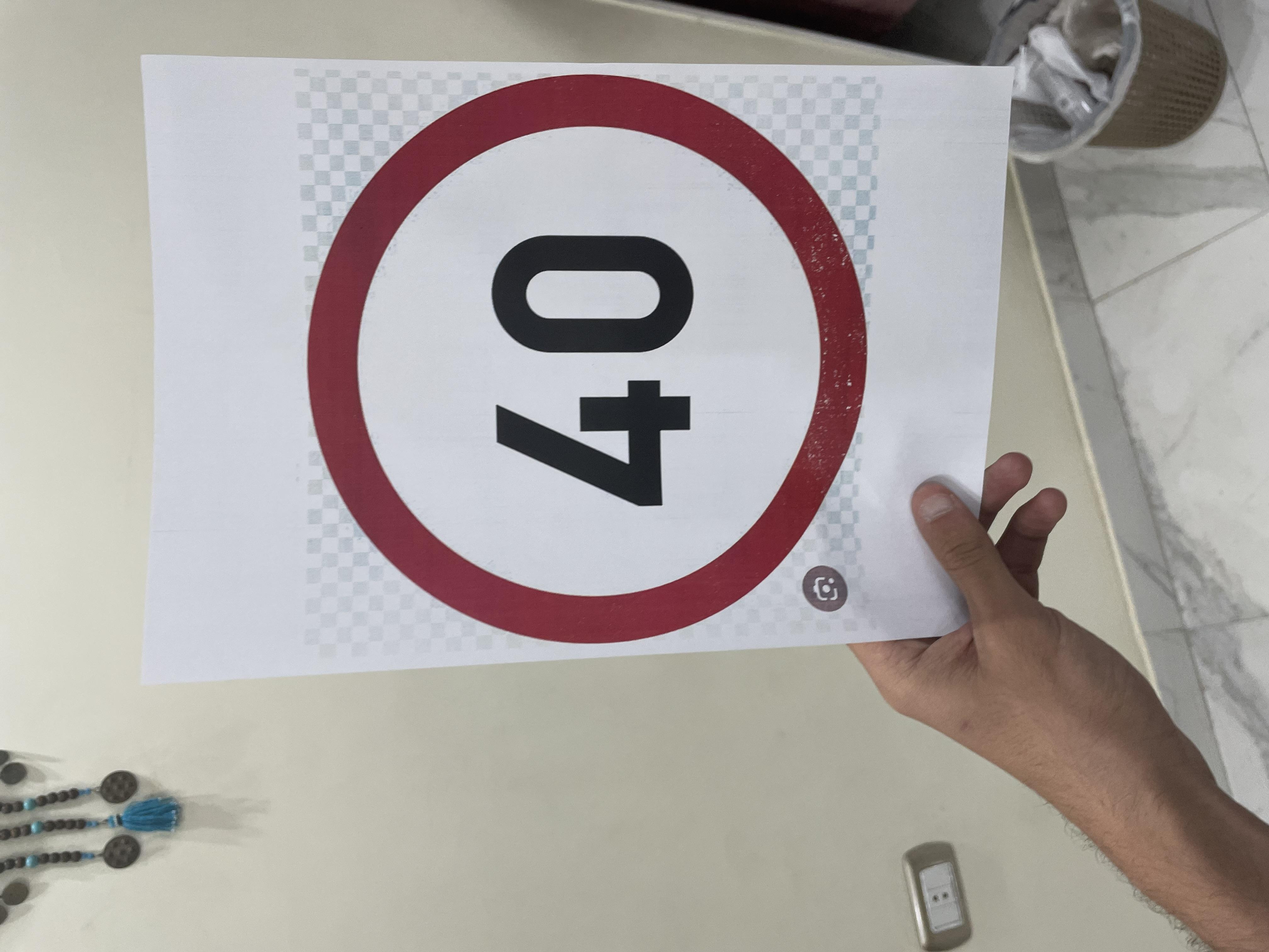40-Speed: (395, 220, 1184, 649)
